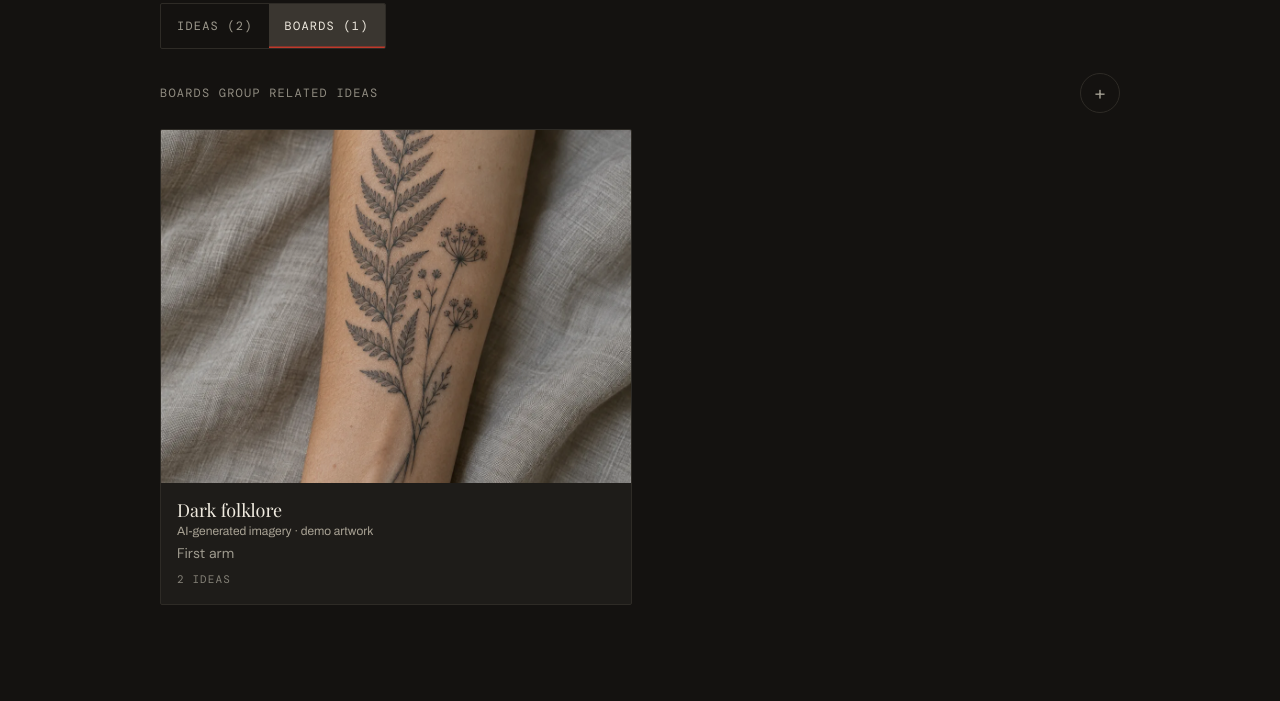
Test: Brief Ideas | Boards tabs › discloses an explicit demo Board cover without relying on idea images
This screenshot has width=1280, height=701.
(page scrolled)
Expected: the 2nd text "AI-generated imagery · demo artwork" is shown, [177,524,373,538]
What coordinates should you click on to do the following:
click the button "Dark folklore"
I would click on:
 (396, 367)
Its box is [160,129,632,604].
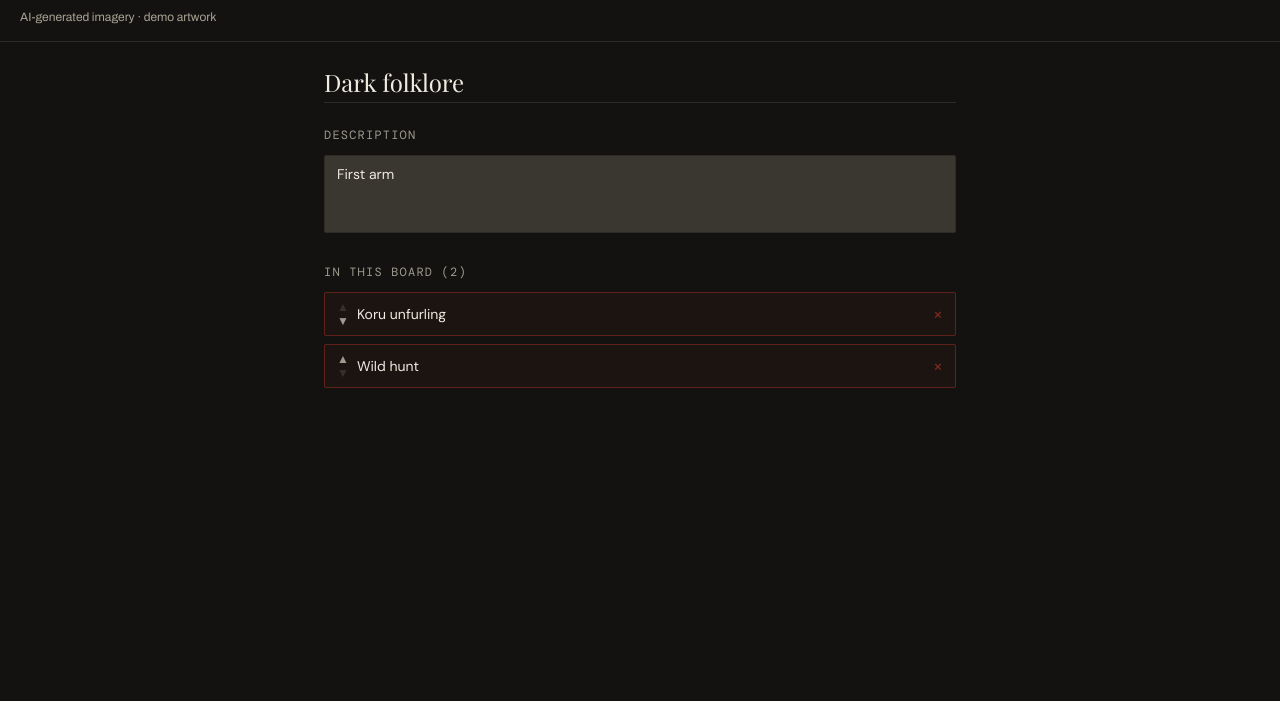
Result: the text "AI-generated imagery · demo artwork" is shown at [20,10,216,24]
